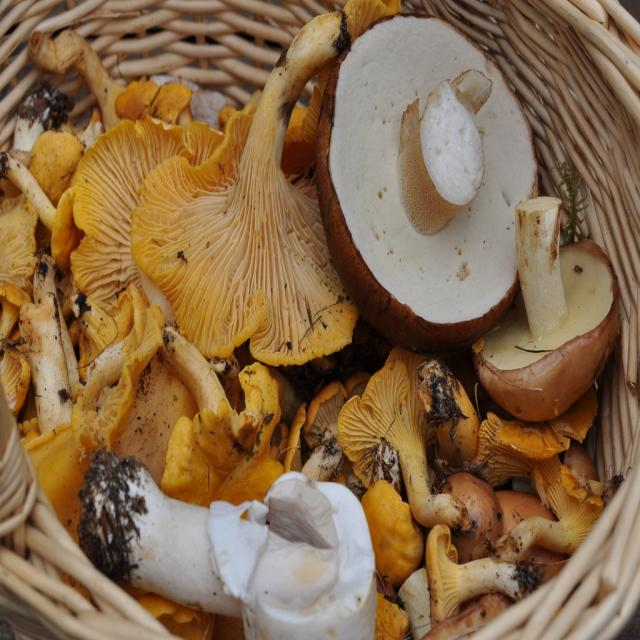mushroom: (0, 0, 621, 639), (132, 11, 364, 364), (338, 352, 468, 516)
